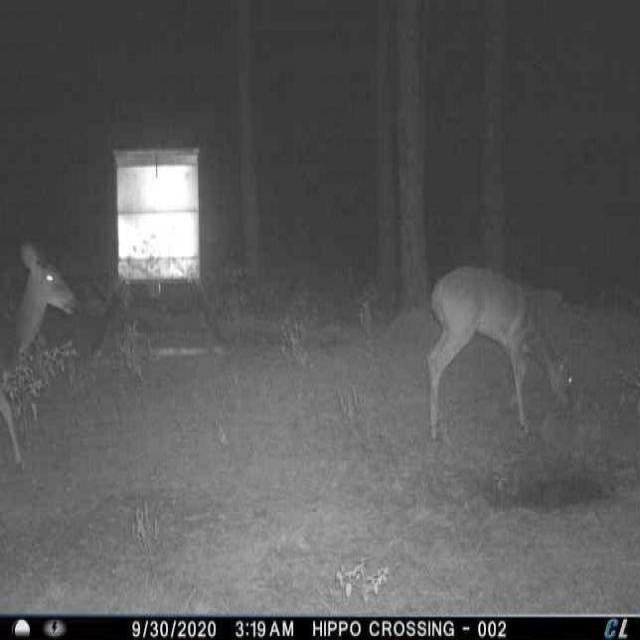deer: (422, 266, 578, 443), (0, 237, 82, 470)
